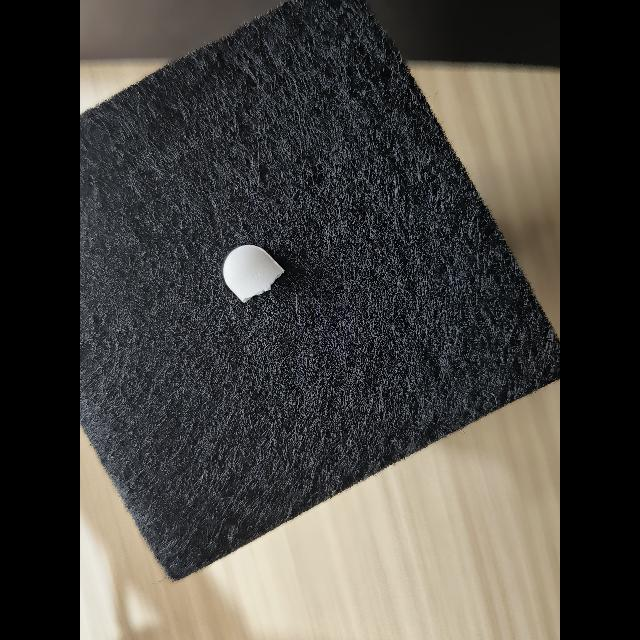Chipped Pill: (223, 245, 285, 303)
